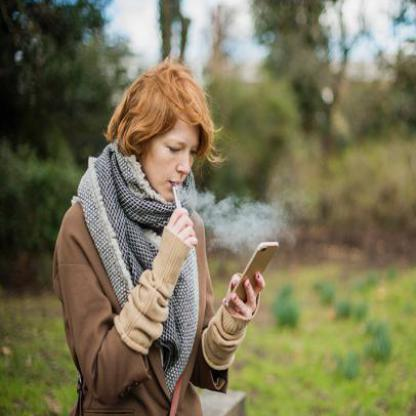cigarette: (173, 185, 182, 212)
person: (54, 59, 218, 415)
smoke: (191, 192, 296, 250)
